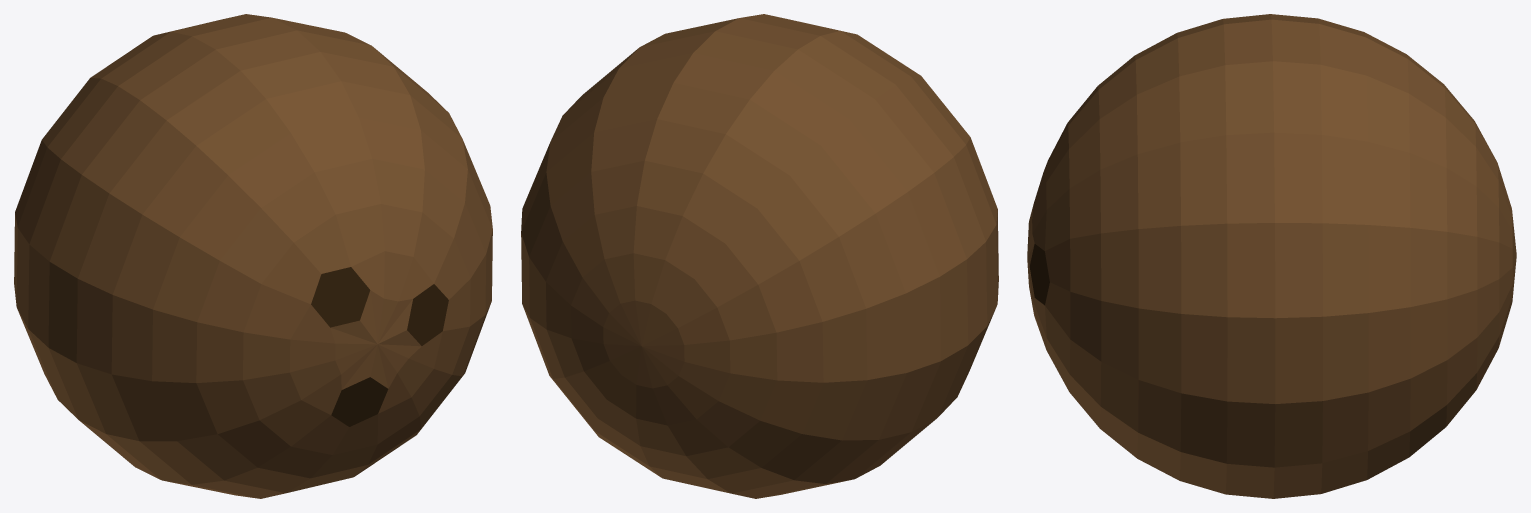
Rendered from Coconut_01.fbx.
3 renders of one model, left to right at view 1: azimuth 30°, elevation 25°; view 2: azimuth 150°, elevation 25°; view 3: azimuth 270°, elevation 25°, orthographic.
Parts seen in each view (by area): view 1: Coconut_01; view 2: Coconut_01; view 3: Coconut_01.
Part boxes in pixels (<box>): Coconut_01: <box>14,14,492,498</box>; Coconut_01: <box>521,14,998,498</box>; Coconut_01: <box>1027,14,1516,498</box>.
Size of the model in its own units: 37.27 by 37.27 by 37.89.
